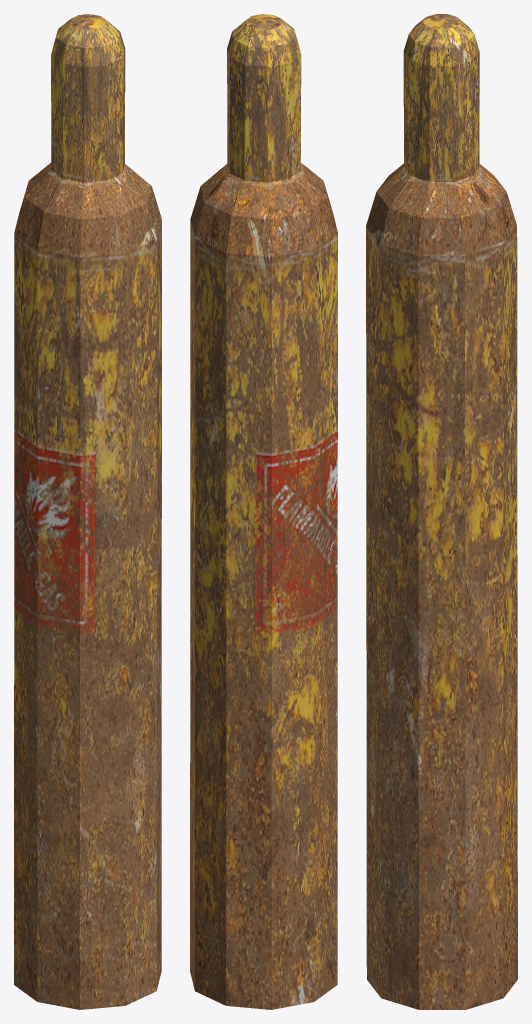
The model's file is gbottle2.fbx.
3 renders of one model, left to right at view 1: azimuth 30°, elevation 25°; view 2: azimuth 150°, elevation 25°; view 3: azimuth 270°, elevation 25°, orthographic.
Parts seen in each view (by area): view 1: gbottle2_Layer1; view 2: gbottle2_Layer1; view 3: gbottle2_Layer1.
Boxes of the visible parts, bbox=[...] form: gbottle2_Layer1: bbox=[14, 14, 161, 1009]; gbottle2_Layer1: bbox=[190, 14, 337, 1009]; gbottle2_Layer1: bbox=[366, 14, 517, 1009].
Bounding box in the file's own units: 15.22 × 112 × 16.08.
1 material, 1 textured.
